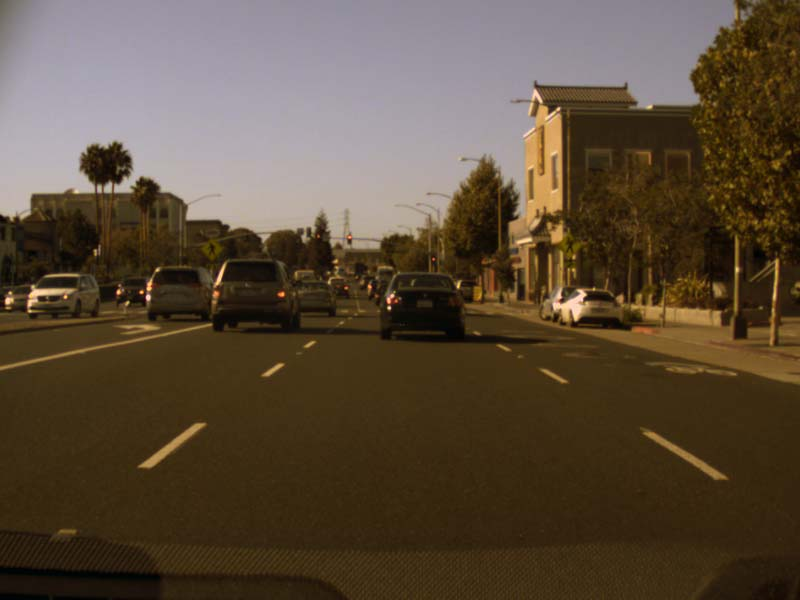Red: (430, 251, 436, 264), (315, 232, 320, 242), (347, 234, 351, 244)
